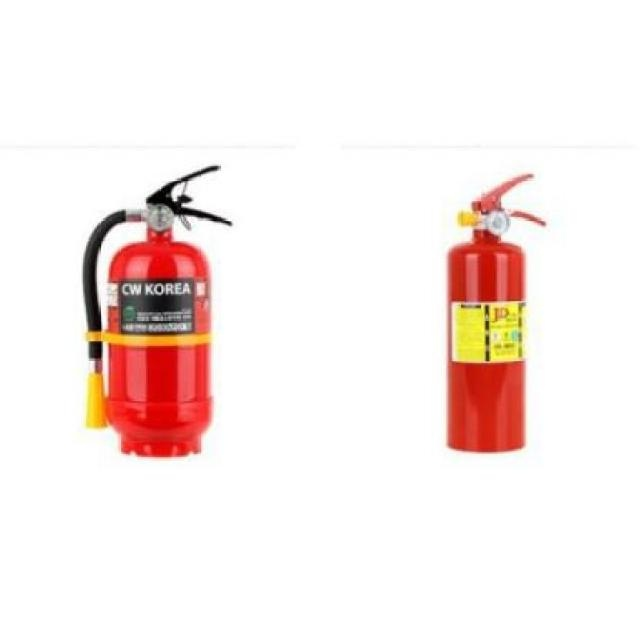fire extinguisher: (81, 165, 233, 458), (444, 173, 548, 453)
